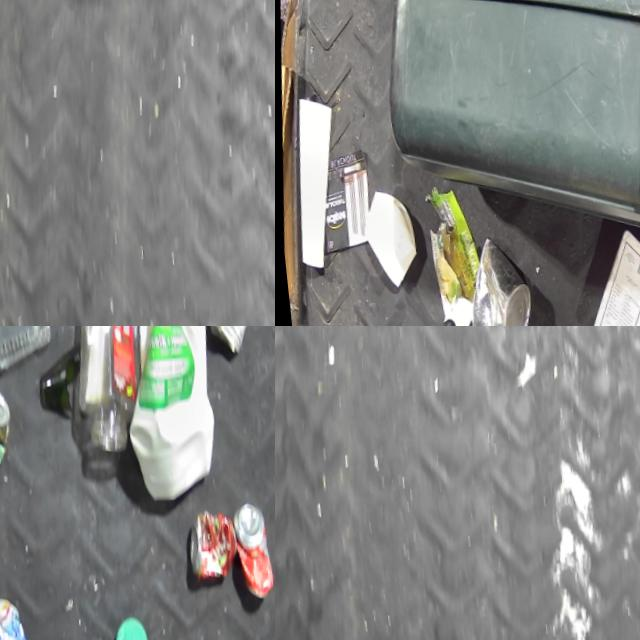can: (450, 234, 530, 326), (213, 502, 273, 612), (174, 495, 237, 592)
milk_jug: (99, 326, 229, 511), (563, 224, 640, 326)
